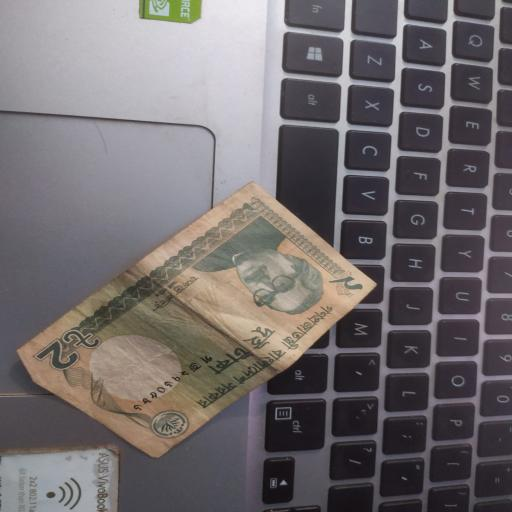2taka: (18, 182, 374, 457)
